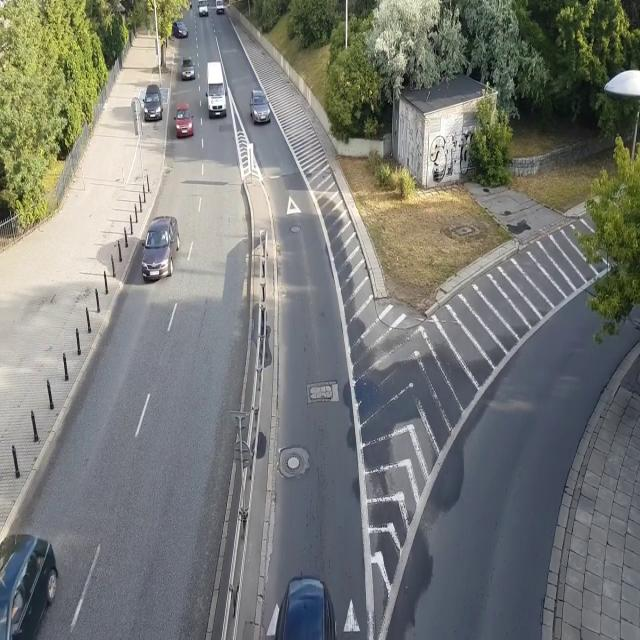car: (0, 530, 60, 640), (273, 575, 338, 640), (139, 214, 181, 282), (249, 86, 271, 125), (142, 83, 163, 122), (173, 100, 194, 137), (180, 54, 196, 80), (169, 20, 189, 39), (184, 0, 192, 8)
van: (205, 61, 228, 120), (198, 0, 208, 17), (214, 1, 226, 14)
